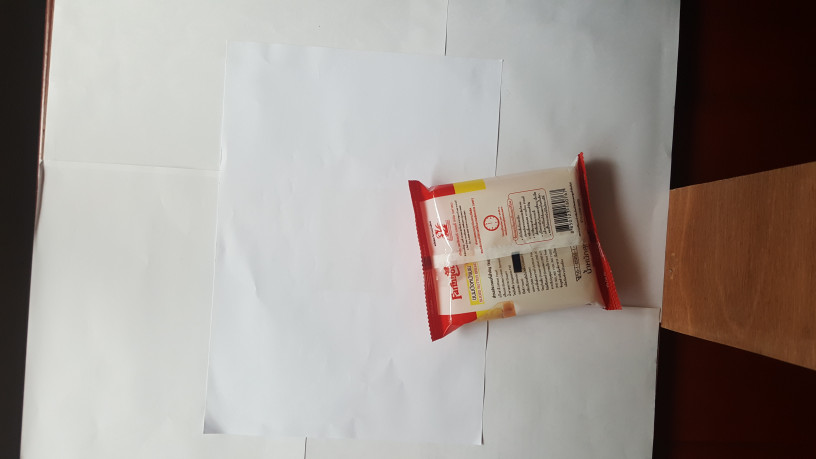farmhouse-bread-butter: (404, 149, 629, 345)
